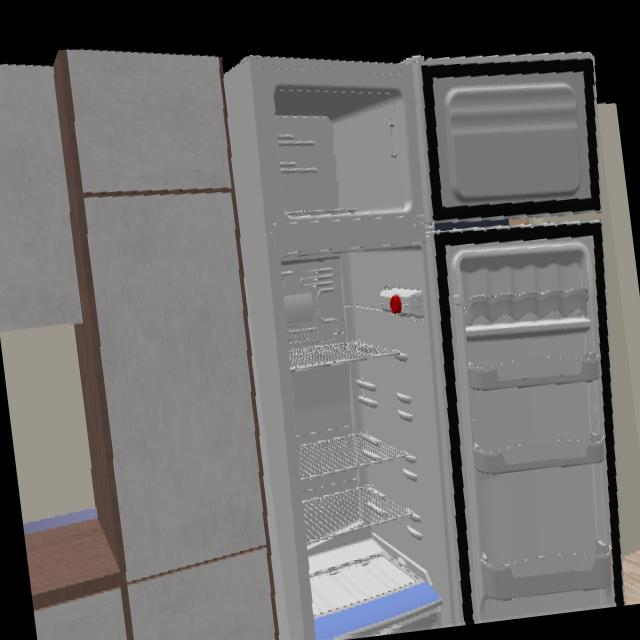cabinet: (0, 50, 278, 640)
fridge: (227, 55, 624, 640)
